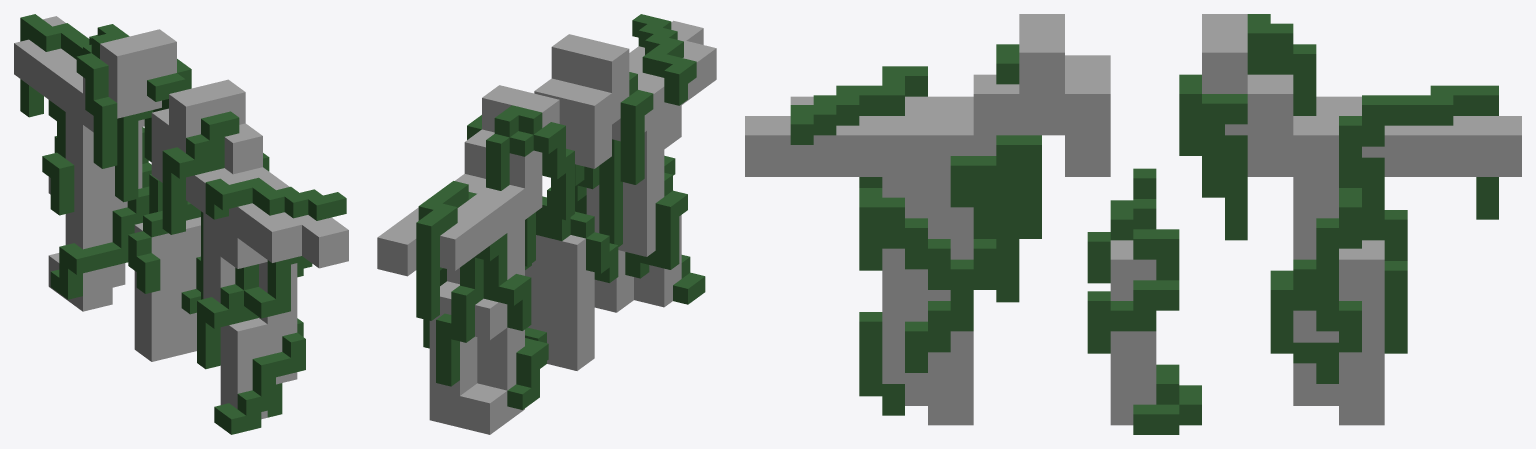
The model's file is arch-right.obj.
3 views of the same model, side by side, from view 1: azimuth 30°, elevation 25°; view 2: azimuth 150°, elevation 25°; view 3: azimuth 270°, elevation 25° (orthographic). The views are drawn at different scales.
Size of the model in its own units: 0.6 by 1.8 by 3.4.
Materials: 1 (1 with a texture image).
